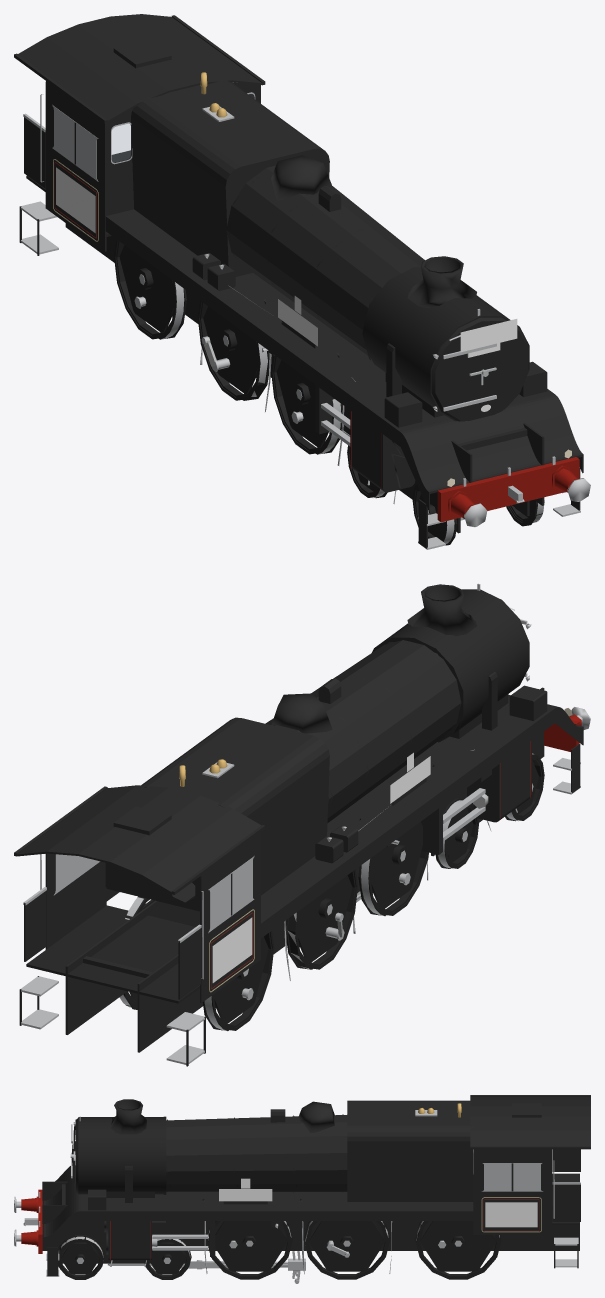
Rendered from engine_lod2.glb.
3 renders of one model, top to bottom at view 1: azimuth 30°, elevation 25°; view 2: azimuth 150°, elevation 25°; view 3: azimuth 270°, elevation 25°, orthographic. The views are drawn at different scales.
Visible parts, largest first — view 1: engine_static_paint_black, engine_static_smokebox, engine_static_steel, engine_static_paint_red, ws_trail_wheel, ws_drive_wheel, ws_lead_wheel, engine_static_decal_cabnum, ws_bogieFront_wheel, cab_gate_R_paint_black, engine_static_decal_headboard, engine_static_decal_nameplate (+1 smaller); view 2: engine_static_paint_black, engine_static_smokebox, engine_static_steel, ws_drive_wheel, ws_lead_wheel, ws_trail_wheel, engine_static_decal_cabnum, ws_bogieRear_wheel, cab_gate_R_paint_black, cab_gate_L_paint_black, ws_bogieFront_wheel, engine_static_decal_nameplate (+1 smaller); view 3: engine_static_paint_black, engine_static_smokebox, ws_drive_wheel, engine_static_steel, ws_lead_wheel, ws_trail_wheel, ws_bogieFront_wheel, engine_static_decal_cabnum, ws_bogieRear_wheel, cab_gate_L_paint_black, engine_static_paint_red, engine_static_decal_nameplate (+4 smaller).
Part boxes in pixels (x1=…): engine_static_paint_black: x1=14, y1=14, x2=583, y2=548; engine_static_smokebox: x1=26, y1=150, x2=529, y2=421; engine_static_steel: x1=20, y1=92, x2=590, y2=549; engine_static_paint_red: x1=437, y1=457, x2=579, y2=522; ws_trail_wheel: x1=114, y1=239, x2=186, y2=339; ws_drive_wheel: x1=197, y1=300, x2=269, y2=400; ws_lead_wheel: x1=271, y1=355, x2=342, y2=454; engine_static_decal_cabnum: x1=56, y1=167, x2=95, y2=233; ws_bogieFront_wheel: x1=412, y1=484, x2=544, y2=545; cab_gate_R_paint_black: x1=24, y1=117, x2=45, y2=188; engine_static_decal_headboard: x1=460, y1=319, x2=517, y2=352; engine_static_decal_nameplate: x1=278, y1=299, x2=317, y2=346; engine_static_paint_black: x1=14, y1=640, x2=583, y2=1066; engine_static_smokebox: x1=26, y1=584, x2=529, y2=1003; engine_static_steel: x1=21, y1=583, x2=590, y2=1064; ws_drive_wheel: x1=286, y1=869, x2=357, y2=969; ws_lead_wheel: x1=358, y1=822, x2=428, y2=915; ws_trail_wheel: x1=123, y1=896, x2=274, y2=1030; engine_static_decal_cabnum: x1=212, y1=917, x2=252, y2=982; ws_bogieRear_wheel: x1=435, y1=798, x2=478, y2=868; cab_gate_R_paint_black: x1=178, y1=928, x2=200, y2=999; cab_gate_L_paint_black: x1=24, y1=890, x2=46, y2=961; ws_bogieFront_wheel: x1=505, y1=754, x2=544, y2=821; engine_static_decal_nameplate: x1=390, y1=756, x2=430, y2=803; engine_static_paint_black: x1=42, y1=1095, x2=590, y2=1276; engine_static_smokebox: x1=71, y1=1099, x2=579, y2=1224; ws_drive_wheel: x1=304, y1=1221, x2=389, y2=1279; engine_static_steel: x1=14, y1=1110, x2=578, y2=1276; ws_lead_wheel: x1=206, y1=1221, x2=292, y2=1279; ws_trail_wheel: x1=415, y1=1221, x2=501, y2=1279; ws_bogieFront_wheel: x1=58, y1=1235, x2=104, y2=1279; engine_static_decal_cabnum: x1=485, y1=1202, x2=537, y2=1227; ws_bogieRear_wheel: x1=144, y1=1239, x2=191, y2=1279; cab_gate_L_paint_black: x1=552, y1=1184, x2=580, y2=1221; engine_static_paint_red: x1=21, y1=1189, x2=42, y2=1253; engine_static_decal_nameplate: x1=219, y1=1189, x2=272, y2=1201.
Bounding box in the file's own units: 2.82 × 4.42 × 12.64.
